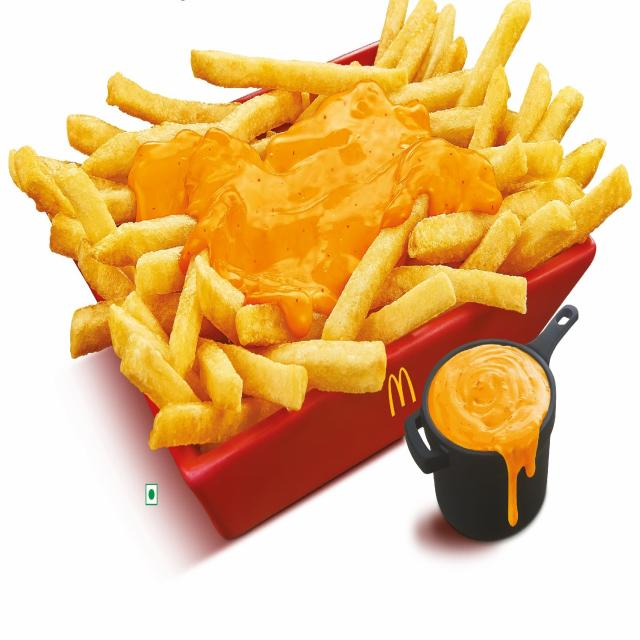Fries: (5, 0, 634, 462)
